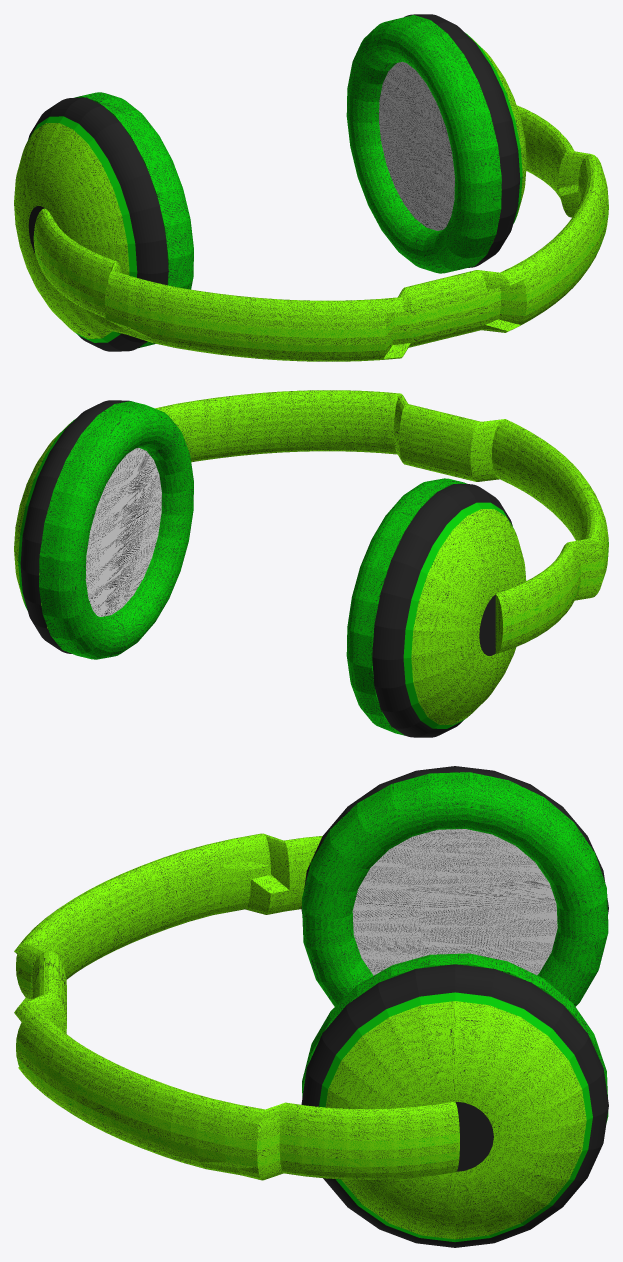
3 renders of one model, top to bottom at view 1: azimuth 30°, elevation 25°; view 2: azimuth 150°, elevation 25°; view 3: azimuth 270°, elevation 25°, orthographic. The views are drawn at different scales.
Parts seen in each view (by area): view 1: funky headphones by tfg; view 2: funky headphones by tfg; view 3: funky headphones by tfg.
Boxes of the visible parts, x1,y1,x2,y2 form: funky headphones by tfg: (14,14,608,361); funky headphones by tfg: (14,390,608,737); funky headphones by tfg: (14,766,608,1247).
Bounding box in the file's own units: 98.74 × 44.65 × 86.35.
